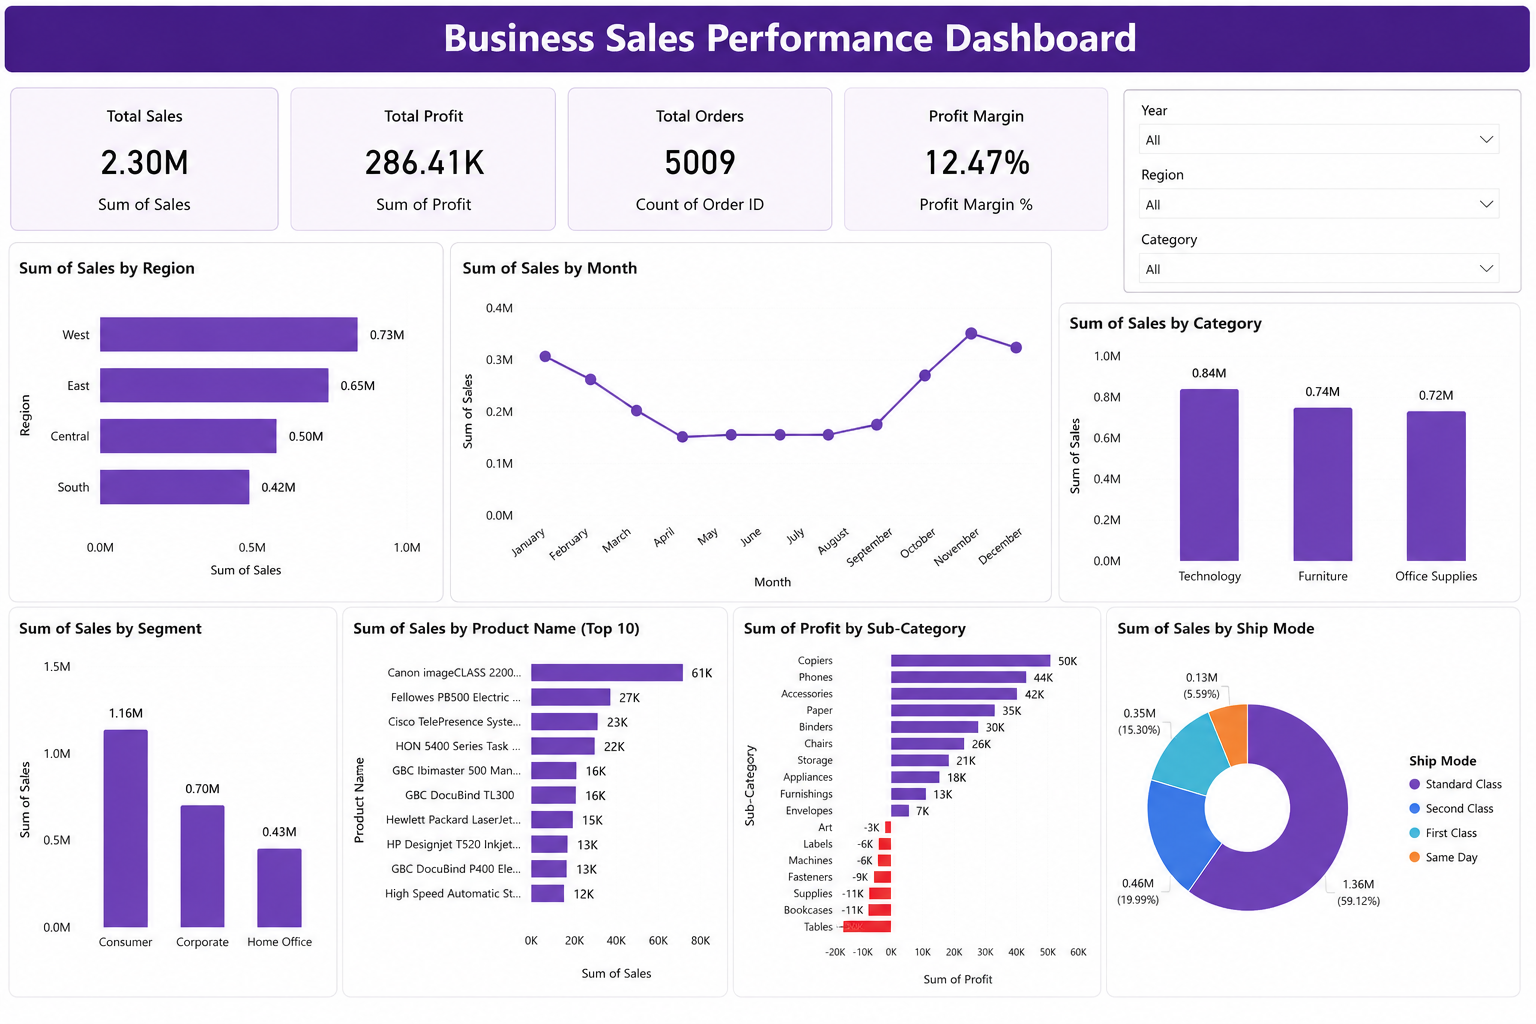

The dashboard page shown, as its layout file describes it:
{"tool":"powerbi","page":{"name":"Page 1","canvas":[1280,720],"ordinal":0},"visuals":[{"type":"clusteredBarChart","fields":{"Category":["Cleaned_Superstore.Region"],"Y":["Sum(Cleaned_Superstore.Sales)"]},"box":[0,198.4,363.8,284],"z":0},{"type":"barChart","fields":{"Category":["Cleaned_Superstore.Category"],"Y":["Sum(Cleaned_Superstore.Sales)"]},"box":[0,482.4,363.8,237.3],"z":1000},{"type":"waterfallChart","fields":{"Category":["Cleaned_Superstore.Product Name"],"Y":["Sum(Cleaned_Superstore.Sales)"]},"box":[856.9,0,423.1,347.2],"z":2000},{"type":"lineChart","fields":{"Category":["Cleaned_Superstore.Month"],"Y":["Sum(Cleaned_Superstore.Sales)"]},"box":[309.3,0,396.8,231.5],"z":3000},{"type":"stackedAreaChart","fields":{"Category":["Cleaned_Superstore.Sub-Category"],"Y":["Sum(Cleaned_Superstore.Profit)"]},"box":[363.8,482.4,493.1,237.3],"z":4000},{"type":"pieChart","fields":{"Category":["Cleaned_Superstore.Ship Mode"],"Y":["Sum(Cleaned_Superstore.Sales)"]},"box":[856.9,347.2,423.1,372.5],"z":5000},{"type":"clusteredColumnChart","fields":{"Y":["Sum(Cleaned_Superstore.Sales)"],"Category":["Cleaned_Superstore.Segment"]},"box":[363.8,231.5,493.1,250.9],"z":6000},{"type":"card","fields":{"Values":["Sum(Cleaned_Superstore.Sales)"]},"box":[0,0,177,100.2],"z":7000},{"type":"card","fields":{"Values":["Sum(Cleaned_Superstore.Profit)"]},"box":[0,100.2,177,98.2],"z":8000},{"type":"card","fields":{"Values":["CountNonNull(Cleaned_Superstore.Order ID)"]},"box":[1131.2,340.4,148.8,90.5],"z":9000},{"type":"slicer","fields":{"Values":["Cleaned_Superstore.Category"]},"box":[706.1,0,150.8,142],"z":10000},{"type":"slicer","fields":{"Values":["Cleaned_Superstore.Region"]},"box":[177,0,132.3,198.4],"z":11000},{"type":"slicer","fields":{"Values":["Cleaned_Superstore.Year"]},"box":[706.1,142,150.8,89.5],"z":12000}]}

Visuals, with their boxes on the page's 1280x720 design canvas (x1, y1, x2, y2). These are canvas units, not pixel positions in the 1536x1024 screenshot, which may show the page scaled, cropped or inside an application window:
clusteredBarChart - Cleaned_Superstore.Region x Sum(Cleaned_Superstore.Sales): [0,198,364,482]
barChart - Cleaned_Superstore.Category x Sum(Cleaned_Superstore.Sales): [0,482,364,720]
waterfallChart - Cleaned_Superstore.Product Name x Sum(Cleaned_Superstore.Sales): [857,0,1280,347]
lineChart - Cleaned_Superstore.Month x Sum(Cleaned_Superstore.Sales): [309,0,706,232]
stackedAreaChart - Cleaned_Superstore.Sub-Category x Sum(Cleaned_Superstore.Profit): [364,482,857,720]
pieChart - Cleaned_Superstore.Ship Mode x Sum(Cleaned_Superstore.Sales): [857,347,1280,720]
clusteredColumnChart - Sum(Cleaned_Superstore.Sales) x Cleaned_Superstore.Segment: [364,232,857,482]
card - Sum(Cleaned_Superstore.Sales): [0,0,177,100]
card - Sum(Cleaned_Superstore.Profit): [0,100,177,198]
card - CountNonNull(Cleaned_Superstore.Order ID): [1131,340,1280,431]
slicer - Cleaned_Superstore.Category: [706,0,857,142]
slicer - Cleaned_Superstore.Region: [177,0,309,198]
slicer - Cleaned_Superstore.Year: [706,142,857,232]
